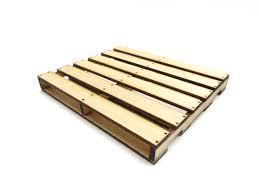wood: (33, 43, 231, 166)
